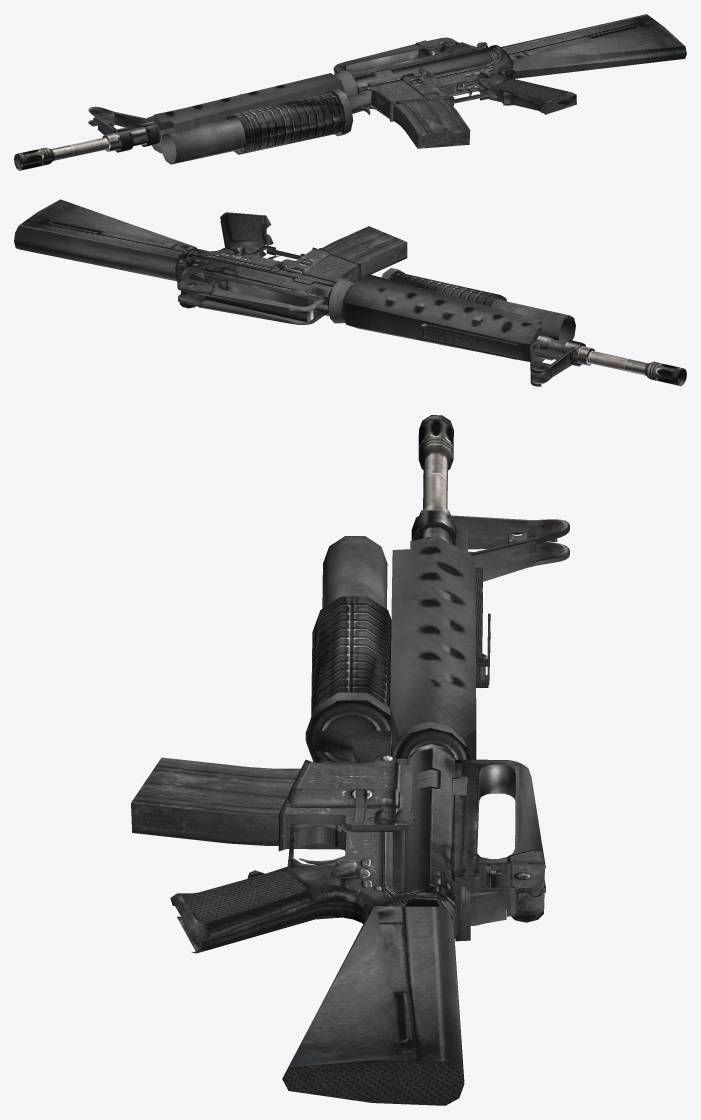
The picture shows the model from 3 angles, top to bottom: view 1: azimuth 30°, elevation 25°; view 2: azimuth 150°, elevation 25°; view 3: azimuth 270°, elevation 25°; orthographic projection. The views are drawn at different scales.
Visible parts, largest first — view 1: _m203_1st; view 2: _m203_1st; view 3: _m203_1st.
Boxes of the visible parts, x1,y1,x2,y2 form: _m203_1st: (14, 14, 686, 170); _m203_1st: (14, 199, 686, 386); _m203_1st: (131, 415, 569, 1105).
Size of the model in its own units: 0.9488 by 0.0637 by 0.2858.
Materials: 1 (1 with a texture image).
